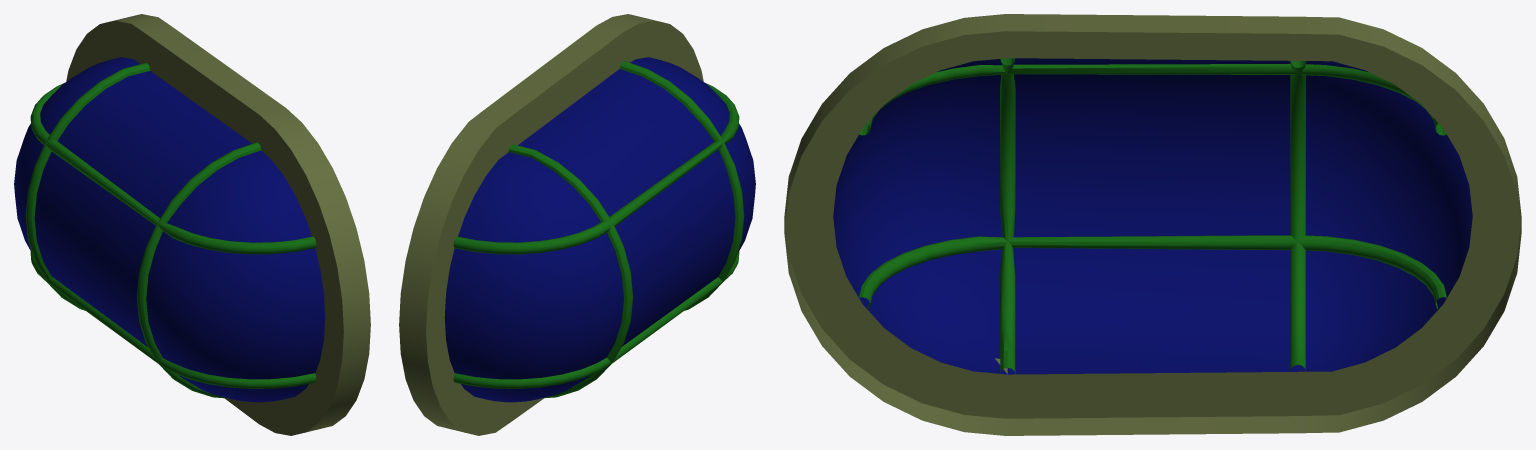
File: wallLamp.fbx
3 views of the same model, side by side, from view 1: azimuth 30°, elevation 25°; view 2: azimuth 150°, elevation 25°; view 3: azimuth 270°, elevation 25° (orthographic). The views are drawn at different scales.
Visible parts, largest first — view 1: Sphere; view 2: Sphere; view 3: Sphere.
Part boxes in pixels (x1=…): Sphere: x1=14, y1=14, x2=370, y2=435; Sphere: x1=399, y1=14, x2=755, y2=435; Sphere: x1=784, y1=14, x2=1521, y2=435.
Bounding box in the file's own units: 128 × 256 × 422.
